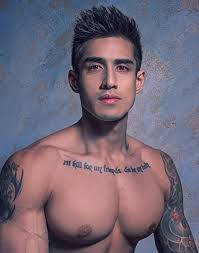Indian_Male: (76, 43, 142, 129)
